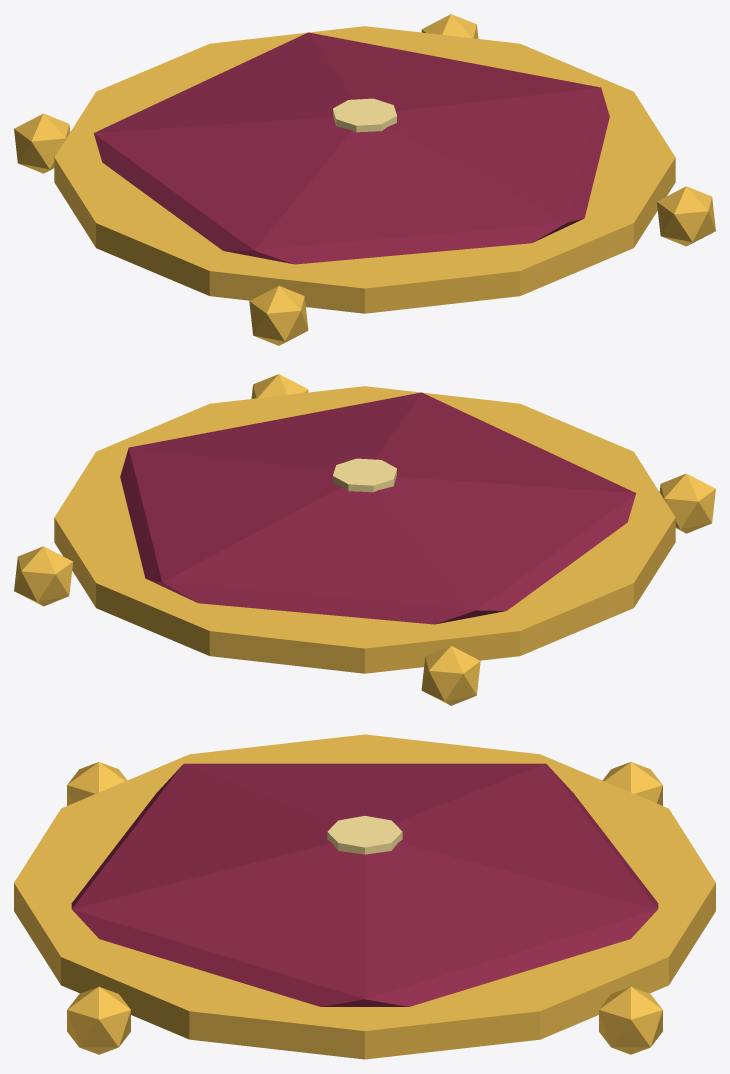
Rendered from CatCafe_Prop_GrandCushion.glb.
The picture shows the model from 3 angles, top to bottom: view 1: azimuth 30°, elevation 25°; view 2: azimuth 150°, elevation 25°; view 3: azimuth 270°, elevation 25°; orthographic projection. The views are drawn at different scales.
Visible parts, largest first — view 1: CatCafe_Prop_GrandCushion; view 2: CatCafe_Prop_GrandCushion; view 3: CatCafe_Prop_GrandCushion.
Boxes of the visible parts, bbox=[...] form: CatCafe_Prop_GrandCushion: bbox=[14, 14, 715, 345]; CatCafe_Prop_GrandCushion: bbox=[14, 374, 715, 705]; CatCafe_Prop_GrandCushion: bbox=[14, 734, 715, 1059].
Bounding box in the file's own units: 1.12 × 0.225 × 1.12.
1 material, 1 textured.
